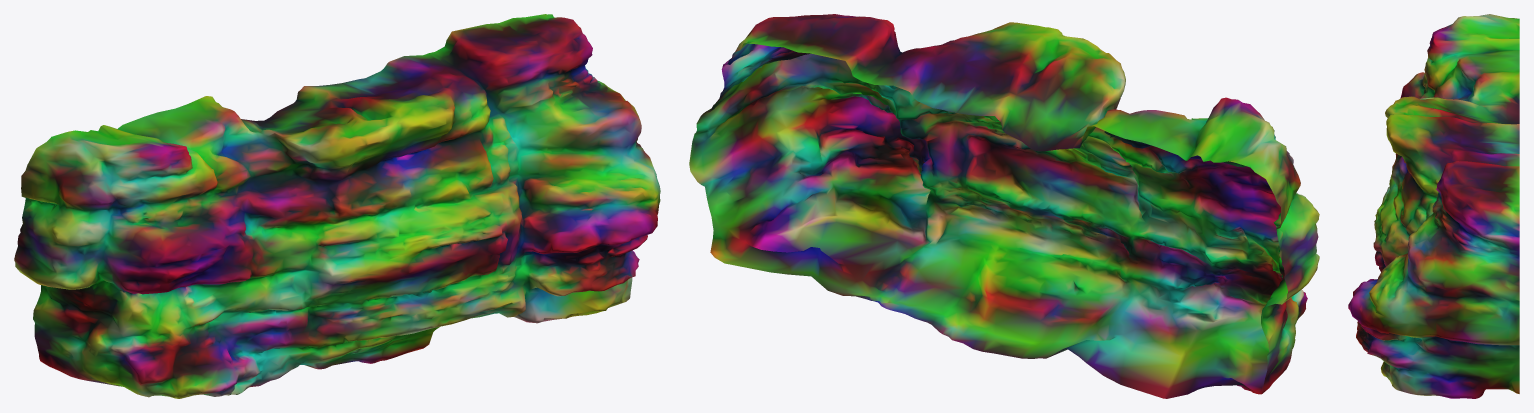
Rendered from Cliff_02_Mesh.fbx.
The picture shows the model from 3 angles, left to right: view 1: azimuth 30°, elevation 25°; view 2: azimuth 150°, elevation 25°; view 3: azimuth 270°, elevation 25°; orthographic projection. The views are drawn at different scales.
Parts seen in each view (by area): view 1: Cliff_02_LOD0; view 2: Cliff_02_LOD0; view 3: Cliff_02_LOD0.
Part boxes in pixels (<box>): Cliff_02_LOD0: <box>14,14,660,398</box>; Cliff_02_LOD0: <box>689,14,1319,398</box>; Cliff_02_LOD0: <box>1348,14,1519,398</box>.
Bounding box in the file's own units: 2611 × 828 × 1125.
